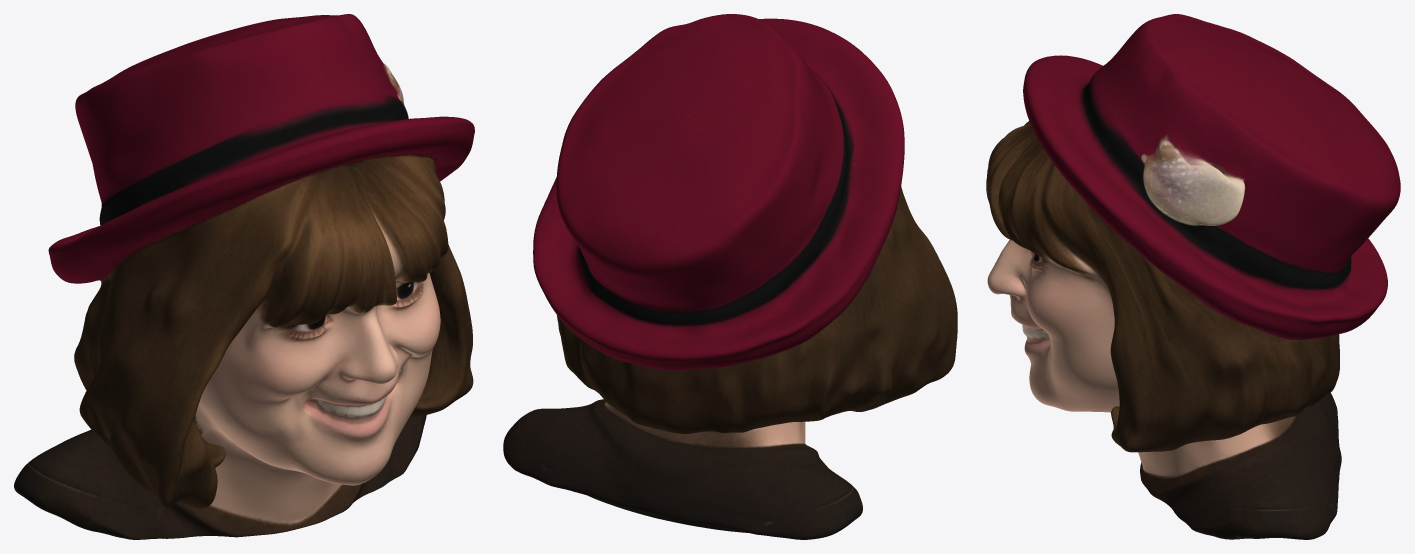
Rendered from new under 2mb.glb.
3 views of the same model, side by side, from view 1: azimuth 30°, elevation 25°; view 2: azimuth 150°, elevation 25°; view 3: azimuth 270°, elevation 25° (orthographic). The views are drawn at different scales.
Bounding box in the file's own units: 1.57 × 1.9 × 1.61.
Materials: 1 (1 with a texture image).
